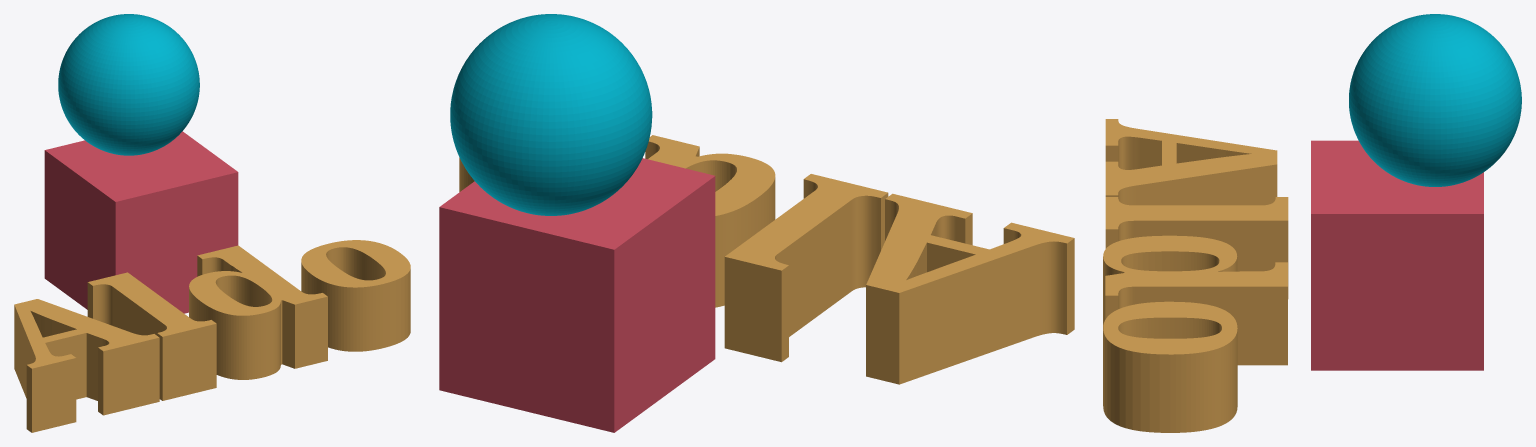
Rendered from aldo.glb.
3 views of the same model, side by side, from view 1: azimuth 30°, elevation 25°; view 2: azimuth 150°, elevation 25°; view 3: azimuth 270°, elevation 25° (orthographic). The views are drawn at different scales.
Visible parts, largest first — view 1: Mesh_Mesh_head_geo.001_lambert2SG.001; view 2: Mesh_Mesh_head_geo.001_lambert2SG.001; view 3: Mesh_Mesh_head_geo.001_lambert2SG.001.
Boxes of the visible parts, bbox=[...] form: Mesh_Mesh_head_geo.001_lambert2SG.001: bbox=[14, 14, 410, 432]; Mesh_Mesh_head_geo.001_lambert2SG.001: bbox=[439, 14, 1074, 432]; Mesh_Mesh_head_geo.001_lambert2SG.001: bbox=[1103, 14, 1521, 432].
Size of the model in its own units: 64.34 by 40 by 48.36.
